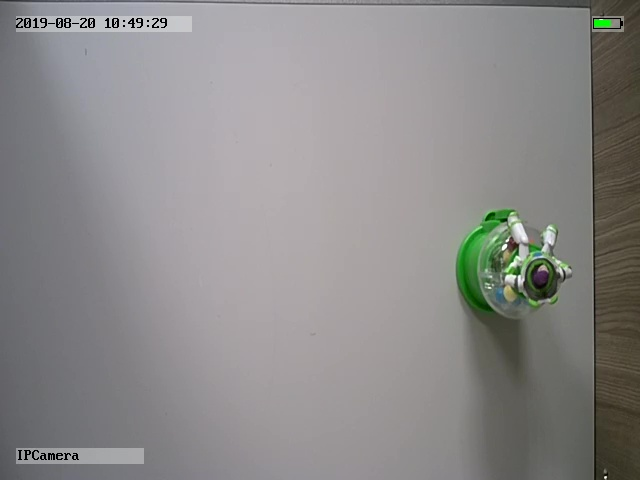buzz: (453, 206, 574, 323)
